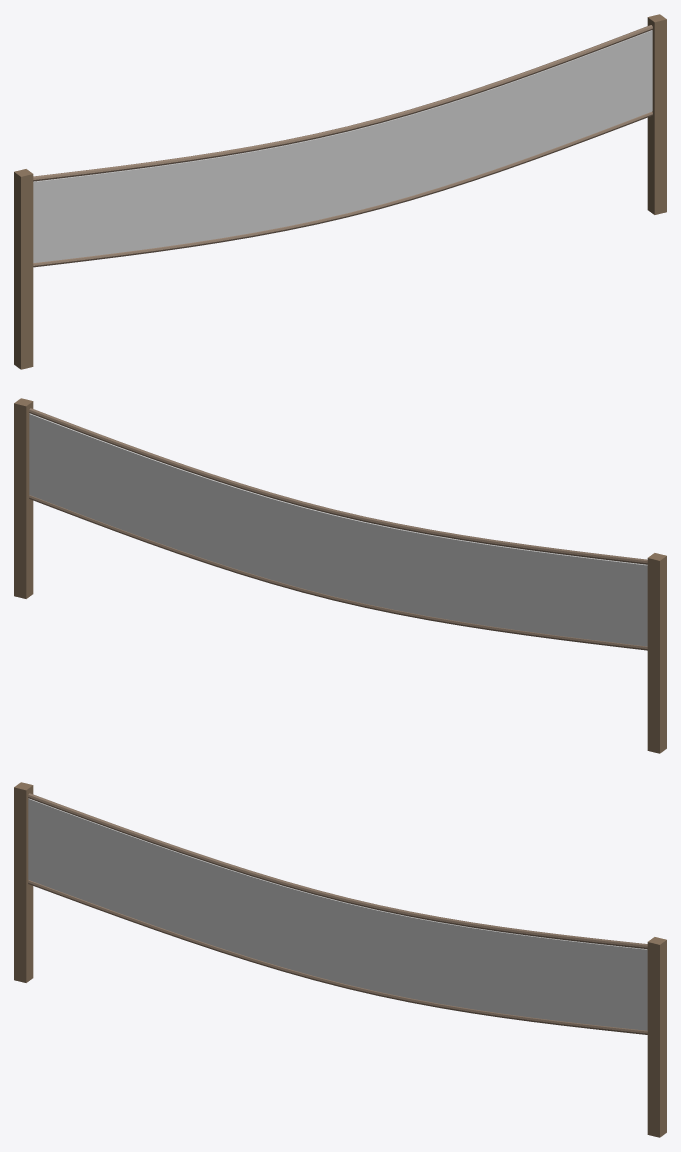
The model's file is volleyball_net 1.fbx.
3 renders of one model, top to bottom at view 1: azimuth 30°, elevation 25°; view 2: azimuth 150°, elevation 25°; view 3: azimuth 330°, elevation 25°, orthographic.
Visible parts, largest first — view 1: volleyball_net; view 2: volleyball_net; view 3: volleyball_net.
Part boxes in pixels (left/top/right/bottom): volleyball_net: left=14, top=14, right=666, bottom=369; volleyball_net: left=14, top=398, right=666, bottom=753; volleyball_net: left=14, top=782, right=666, bottom=1137.
Bounding box in the file's own units: 1051 × 300 × 20.
